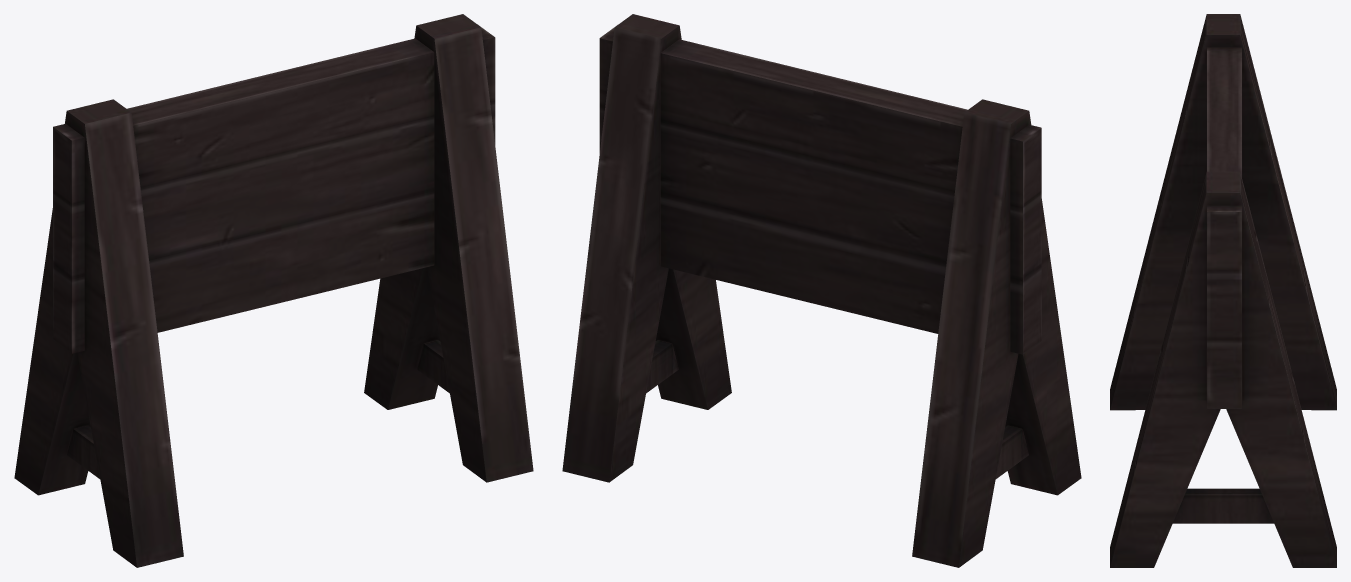
File: zhangaiwu.FBX
The picture shows the model from 3 angles, left to right: view 1: azimuth 30°, elevation 25°; view 2: azimuth 150°, elevation 25°; view 3: azimuth 270°, elevation 25°; orthographic projection. The views are drawn at different scales.
Visible parts, largest first — view 1: modelBoard; view 2: modelBoard; view 3: modelBoard.
Boxes of the visible parts, left/top/right/bottom form: modelBoard: left=14, top=14, right=533, bottom=567; modelBoard: left=562, top=14, right=1081, bottom=567; modelBoard: left=1110, top=14, right=1336, bottom=567.
Bounding box in the file's own units: 69.85 × 63.96 × 35.05.
1 material, 1 textured.
